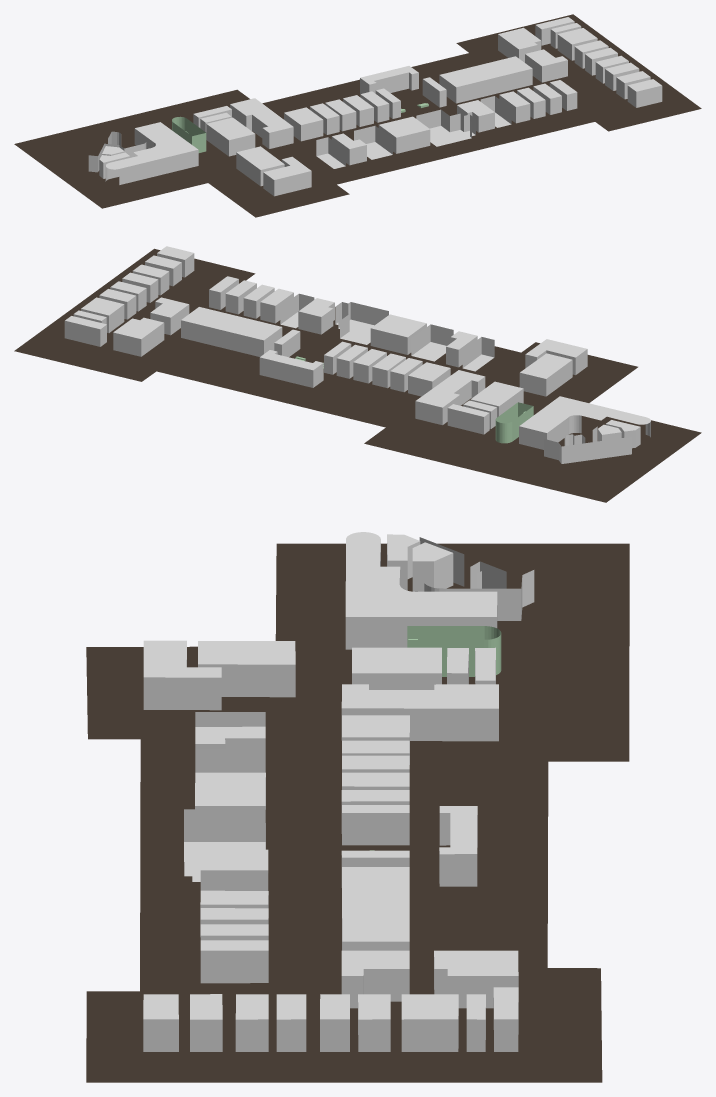
File: second_floor.glb
3 views of the same model, one above another, from view 1: azimuth 30°, elevation 25°; view 2: azimuth 150°, elevation 25°; view 3: azimuth 270°, elevation 25° (orthographic). The views are drawn at different scales.
Visible parts, largest first — view 1: Plane.001, CANTEEN, CAO, CLO, Plane.004, PIO, CTO, CMO, Plane.003, C.AD.O, MITD, DILG (+27 smaller); view 2: Plane.001, CAO, CANTEEN, CLO, KITCHEN, C.AD.O, Plane.003, Plane.004, DILG, CMO, OFTC, CTO (+28 smaller); view 3: Plane.001, CANTEEN, CLO, CAO, C.AD.O, CTO, Plane.004, DILG, PIO, CSO, MITD, Plane.003 (+30 smaller).
Boxes of the visible parts, box(x1,y1,x2,y2) form: Plane.001: box(14, 14, 701, 217); CANTEEN: box(105, 122, 198, 184); CAO: box(439, 56, 532, 103); CLO: box(230, 98, 293, 148); Plane.004: box(416, 109, 475, 146); PIO: box(206, 117, 255, 156); CTO: box(263, 156, 311, 196); CMO: box(378, 116, 430, 153); Plane.003: box(360, 66, 418, 93); C.AD.O: box(236, 146, 284, 186); MITD: box(525, 49, 567, 82); DILG: box(498, 27, 541, 62); Plane.001: box(14, 248, 701, 502); CAO: box(181, 307, 282, 356); CANTEEN: box(519, 396, 650, 449); CLO: box(415, 370, 485, 425); KITCHEN: box(544, 426, 631, 463); C.AD.O: box(519, 353, 572, 396); Plane.003: box(259, 350, 323, 387); Plane.004: box(335, 302, 388, 344); DILG: box(113, 317, 164, 356); CMO: box(370, 314, 426, 354); OFTC: box(411, 324, 453, 361); CTO: box(525, 339, 587, 374); Plane.001: box(86, 543, 629, 1082); CANTEEN: box(345, 532, 497, 649); CLO: box(341, 684, 498, 741); CAO: box(342, 867, 409, 950); C.AD.O: box(198, 641, 295, 697); CTO: box(143, 640, 221, 710); Plane.004: box(184, 809, 265, 881); DILG: box(434, 950, 518, 1008); PIO: box(352, 647, 441, 689); CSO: box(401, 994, 458, 1051); MITD: box(341, 950, 409, 1008); Plane.003: box(439, 806, 477, 886).
Size of the model in its own units: 4.7 by 0.2287 by 2.
